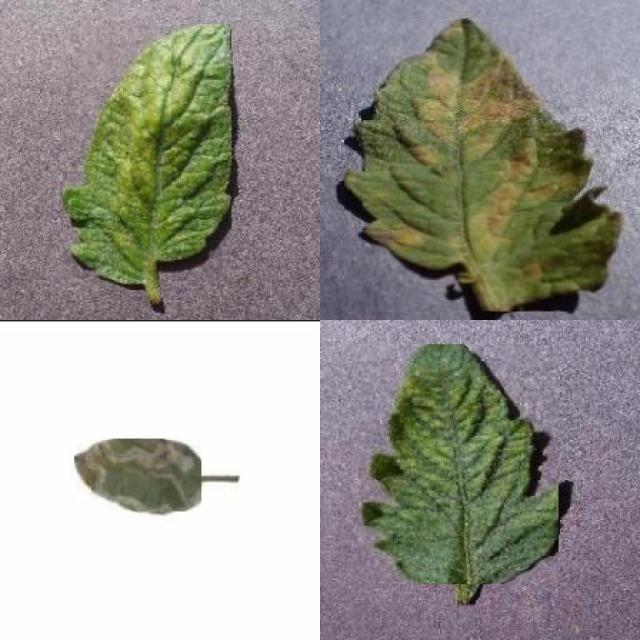Leaf Miner: (75, 438, 202, 512)
Leaf Mold: (345, 18, 622, 312)
Mosaic Virus: (358, 345, 558, 585)
Spider Mites: (62, 25, 232, 288)
